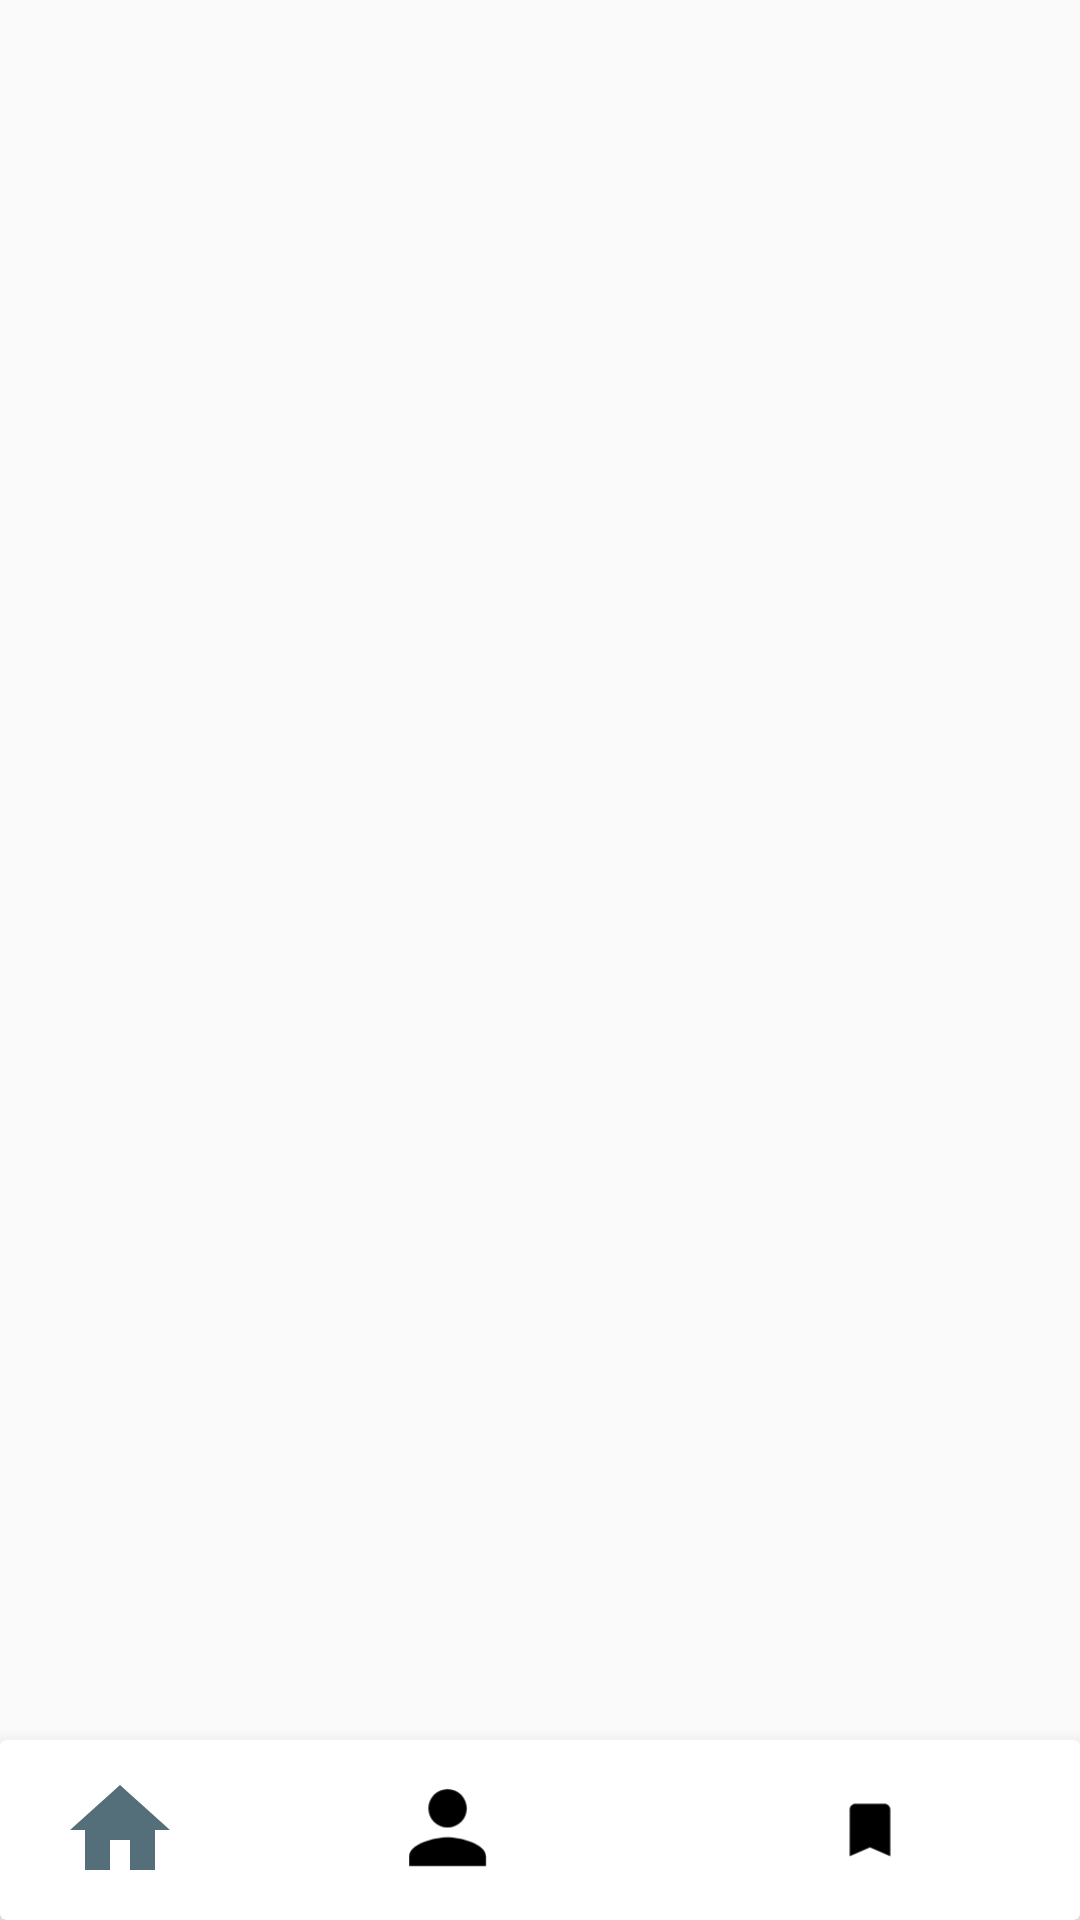

Point at icon controls on the screen. Image size 1080*1920, points as (x=x, y=y).
home: (x=85, y=1852)
person: (x=448, y=1828)
